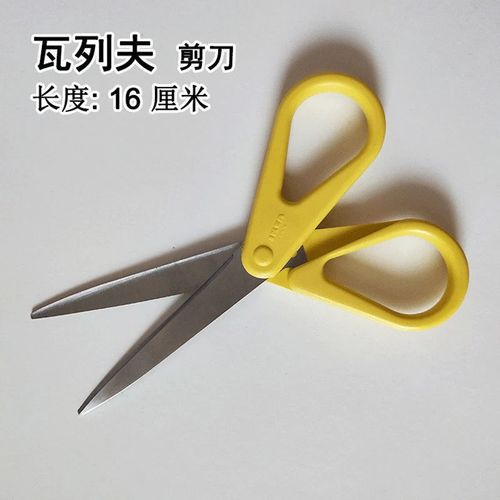scissor: (30, 73, 470, 414)
